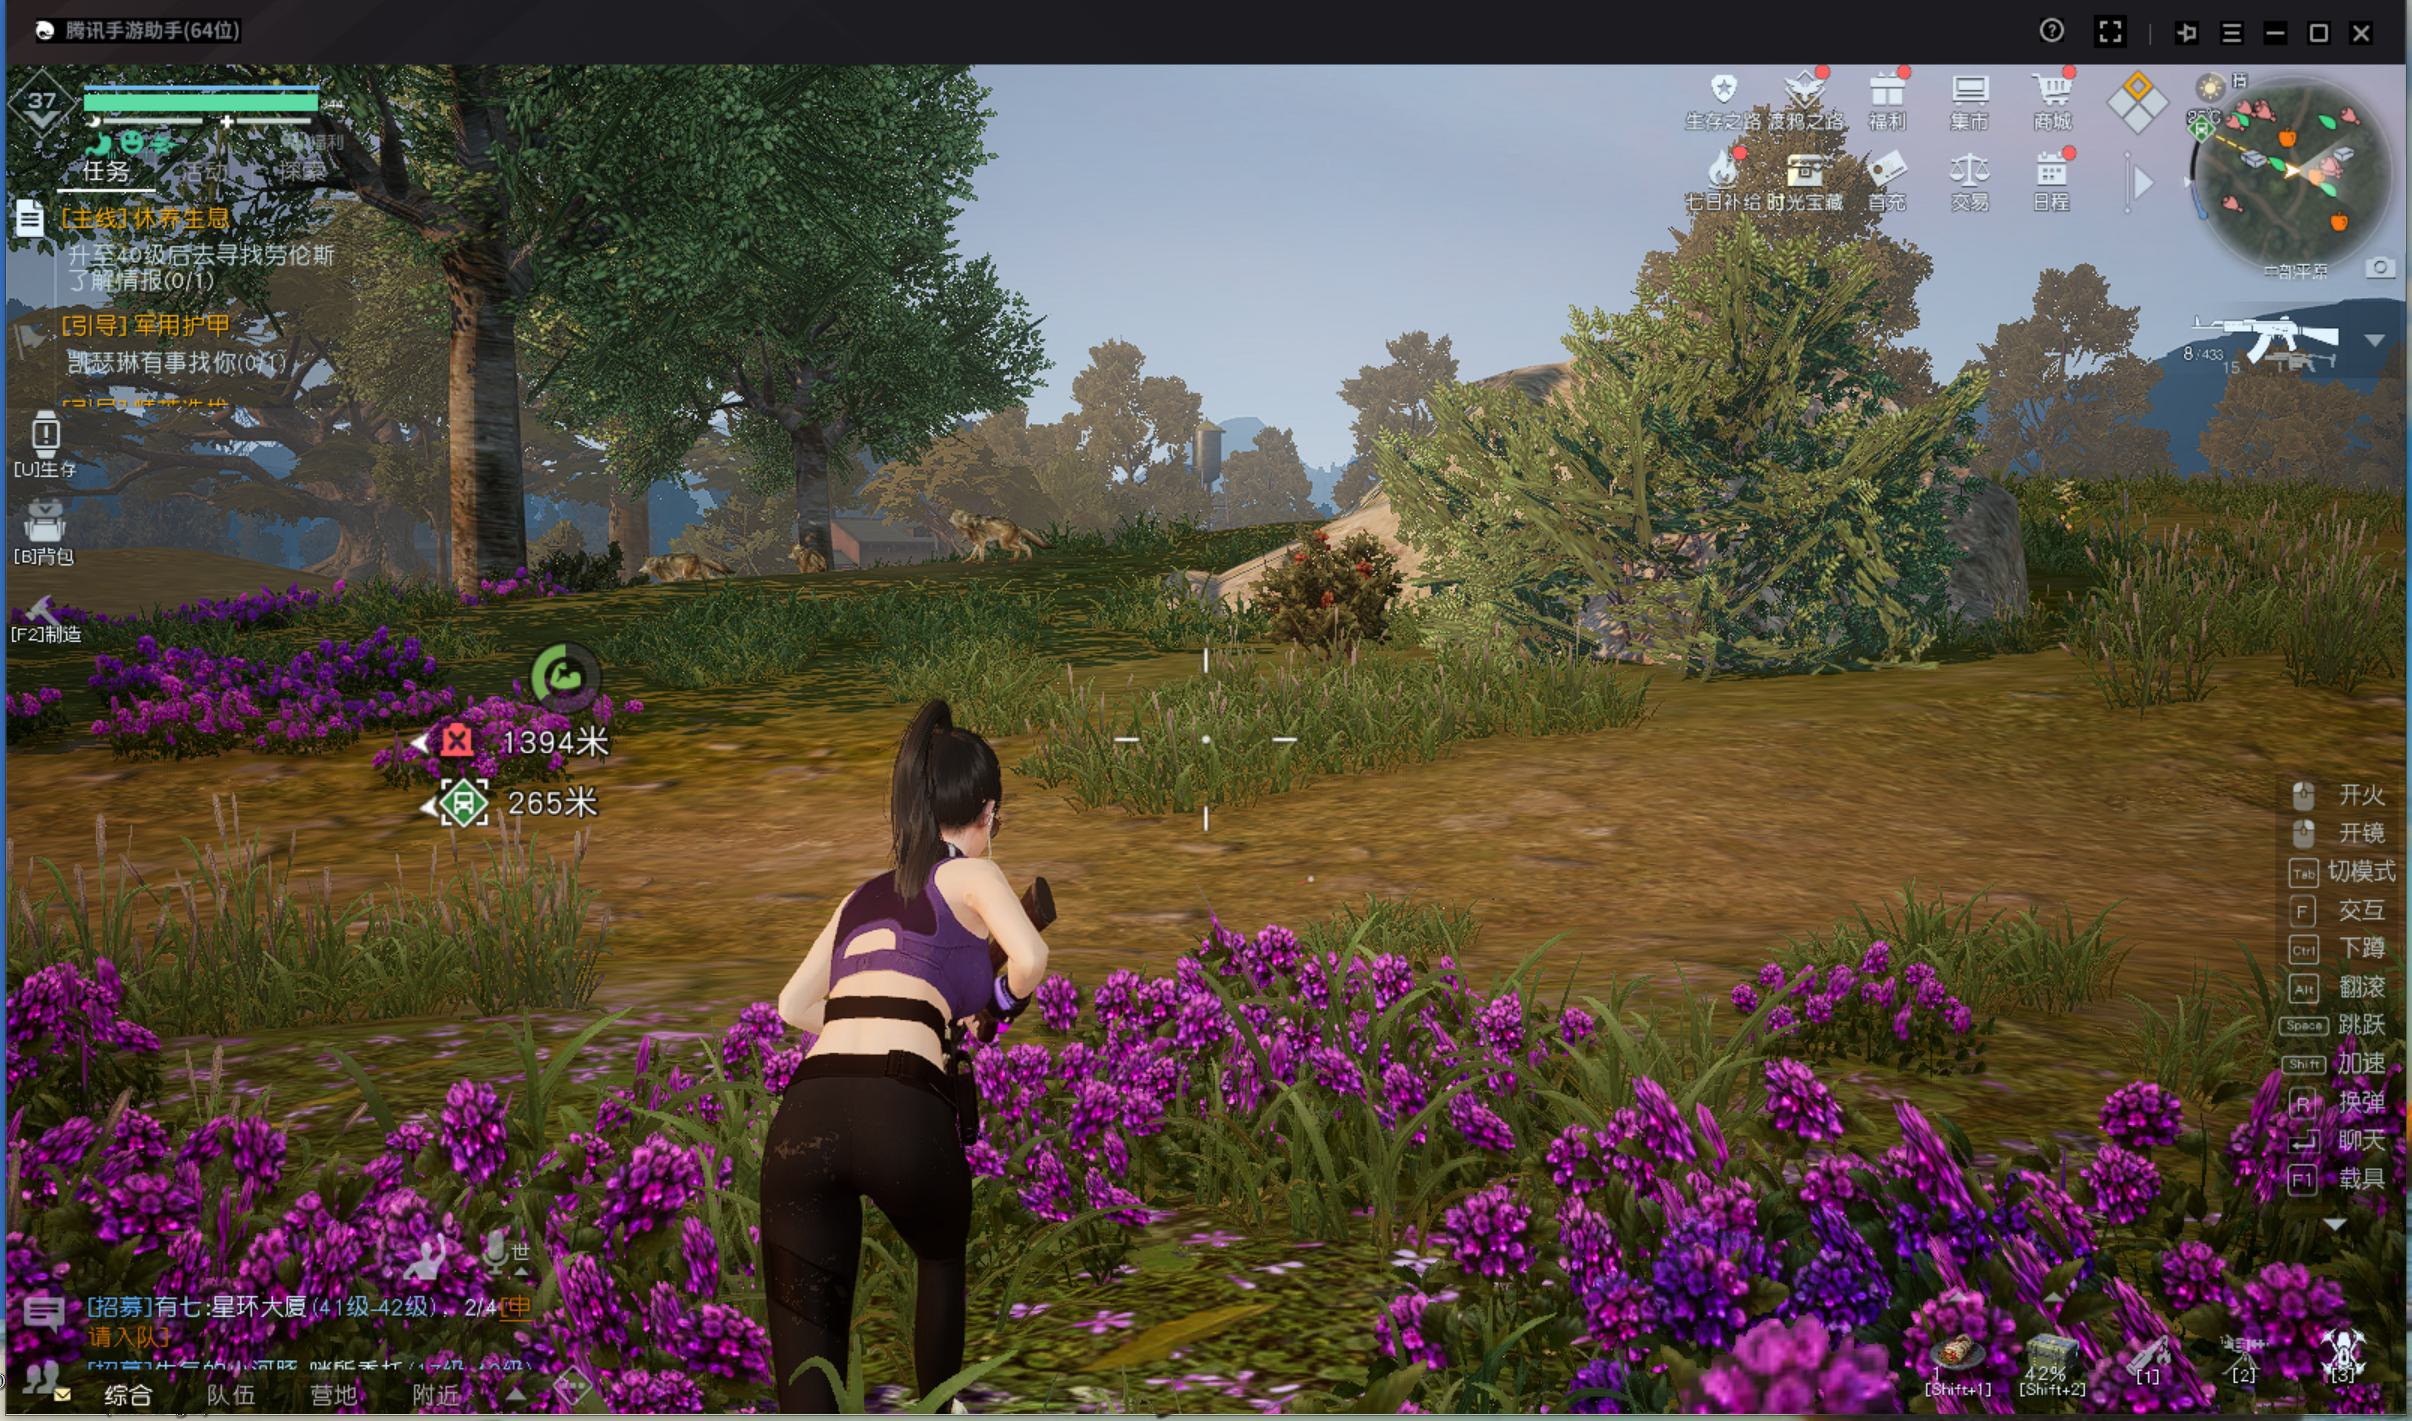tree: (436, 294, 529, 604), (590, 421, 666, 602), (781, 423, 837, 589)
